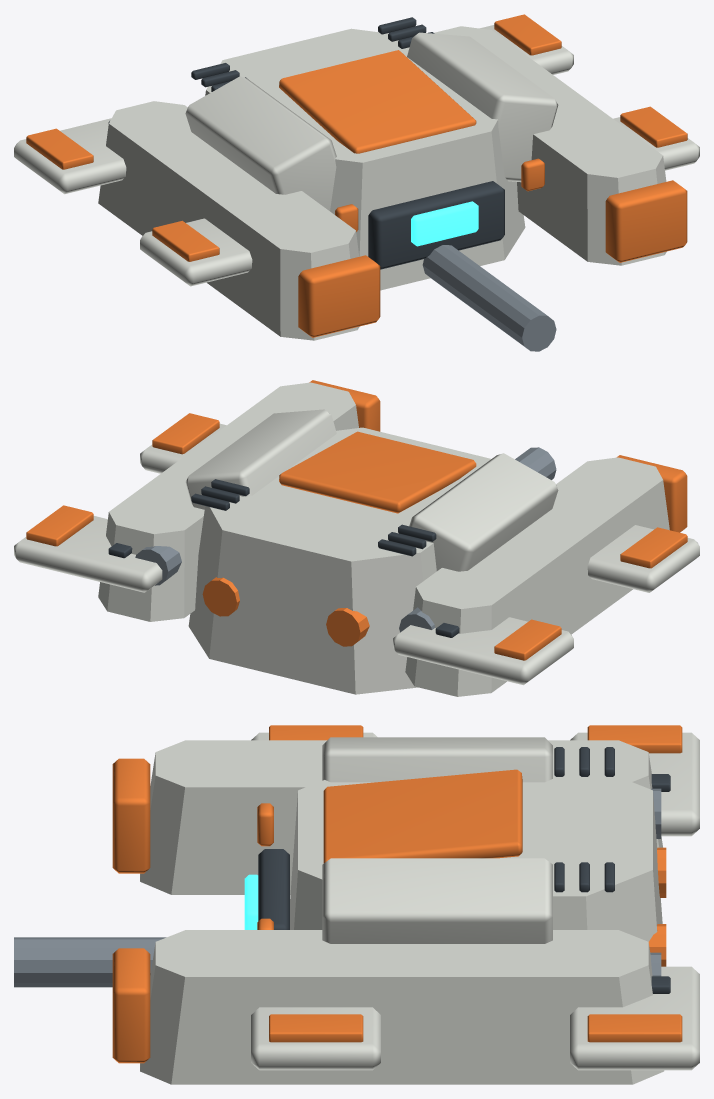
Rendered from VXDR_INTERCEPT_v003_DRONE.fbx.
The picture shows the model from 3 angles, top to bottom: view 1: azimuth 30°, elevation 25°; view 2: azimuth 150°, elevation 25°; view 3: azimuth 270°, elevation 25°; orthographic projection. The views are drawn at different scales.
Visible parts, largest first — view 1: Interceptor swept pylon, Faceted sensor hull, Interceptor swept pylon.001, Top identification, Sloped cheek armor, Sloped cheek armor.001, Sensor recess, Interceptor barrel, Pylon nose, Pylon nose.001, Foldable stabilizer.001, Foldable stabilizer (+8 smaller); view 2: Faceted sensor hull, Interceptor swept pylon, Interceptor swept pylon.001, Sloped cheek armor, Top identification, Sloped cheek armor.001, Foldable stabilizer.001, Foldable stabilizer.003, Foldable stabilizer, Stabilizer orange tip.003, Stabilizer orange tip.002, Stabilizer orange tip (+9 smaller); view 3: Interceptor swept pylon.001, Interceptor swept pylon, Faceted sensor hull, Sloped cheek armor.001, Top identification, Sloped cheek armor, Foldable stabilizer.003, Interceptor barrel, Foldable stabilizer.002, Pylon nose, Pylon nose.001, Foldable stabilizer.001 (+7 smaller).
Boxes of the visible parts, box(x1,y1,x2,y2) form: Interceptor swept pylon: box(98, 101, 359, 340); Faceted sensor hull: box(205, 28, 525, 290); Interceptor swept pylon.001: box(434, 26, 666, 265); Top identification: box(279, 50, 476, 153); Sloped cheek armor: box(185, 76, 336, 210); Sloped cheek armor.001: box(407, 32, 558, 182); Sensor recess: box(368, 181, 504, 269); Interceptor barrel: box(422, 245, 556, 351); Pylon nose: box(298, 255, 380, 337); Pylon nose.001: box(605, 180, 687, 262); Foldable stabilizer.001: box(14, 118, 126, 194); Foldable stabilizer: box(140, 218, 252, 286); Faceted sensor hull: box(188, 427, 490, 694); Interceptor swept pylon: box(405, 457, 669, 696); Interceptor swept pylon.001: box(98, 382, 358, 621); Sloped cheek armor: box(409, 453, 558, 571); Top identification: box(279, 431, 476, 513); Sloped cheek armor.001: box(185, 409, 336, 509); Foldable stabilizer.001: box(393, 617, 573, 685); Foldable stabilizer.003: box(14, 516, 162, 592); Foldable stabilizer: box(587, 525, 699, 592); Stabilizer orange tip.003: box(26, 505, 93, 546); Stabilizer orange tip.002: box(152, 413, 219, 454); Stabilizer orange tip: box(620, 527, 687, 568); Interceptor swept pylon.001: box(140, 930, 664, 1084); Interceptor swept pylon: box(140, 740, 662, 894); Faceted sensor hull: box(290, 764, 662, 941); Sloped cheek armor.001: box(322, 858, 552, 943); Top identification: box(323, 769, 522, 863); Sloped cheek armor: box(322, 737, 552, 782); Foldable stabilizer.003: box(570, 966, 699, 1070); Interceptor barrel: box(14, 937, 166, 987); Foldable stabilizer.002: box(251, 1007, 380, 1070); Pylon nose: box(112, 758, 150, 873); Pylon nose.001: box(112, 948, 150, 1063); Foldable stabilizer.001: box(570, 732, 699, 836).
Bounding box in the file's own units: 35.9 × 9.92 × 32.7.
